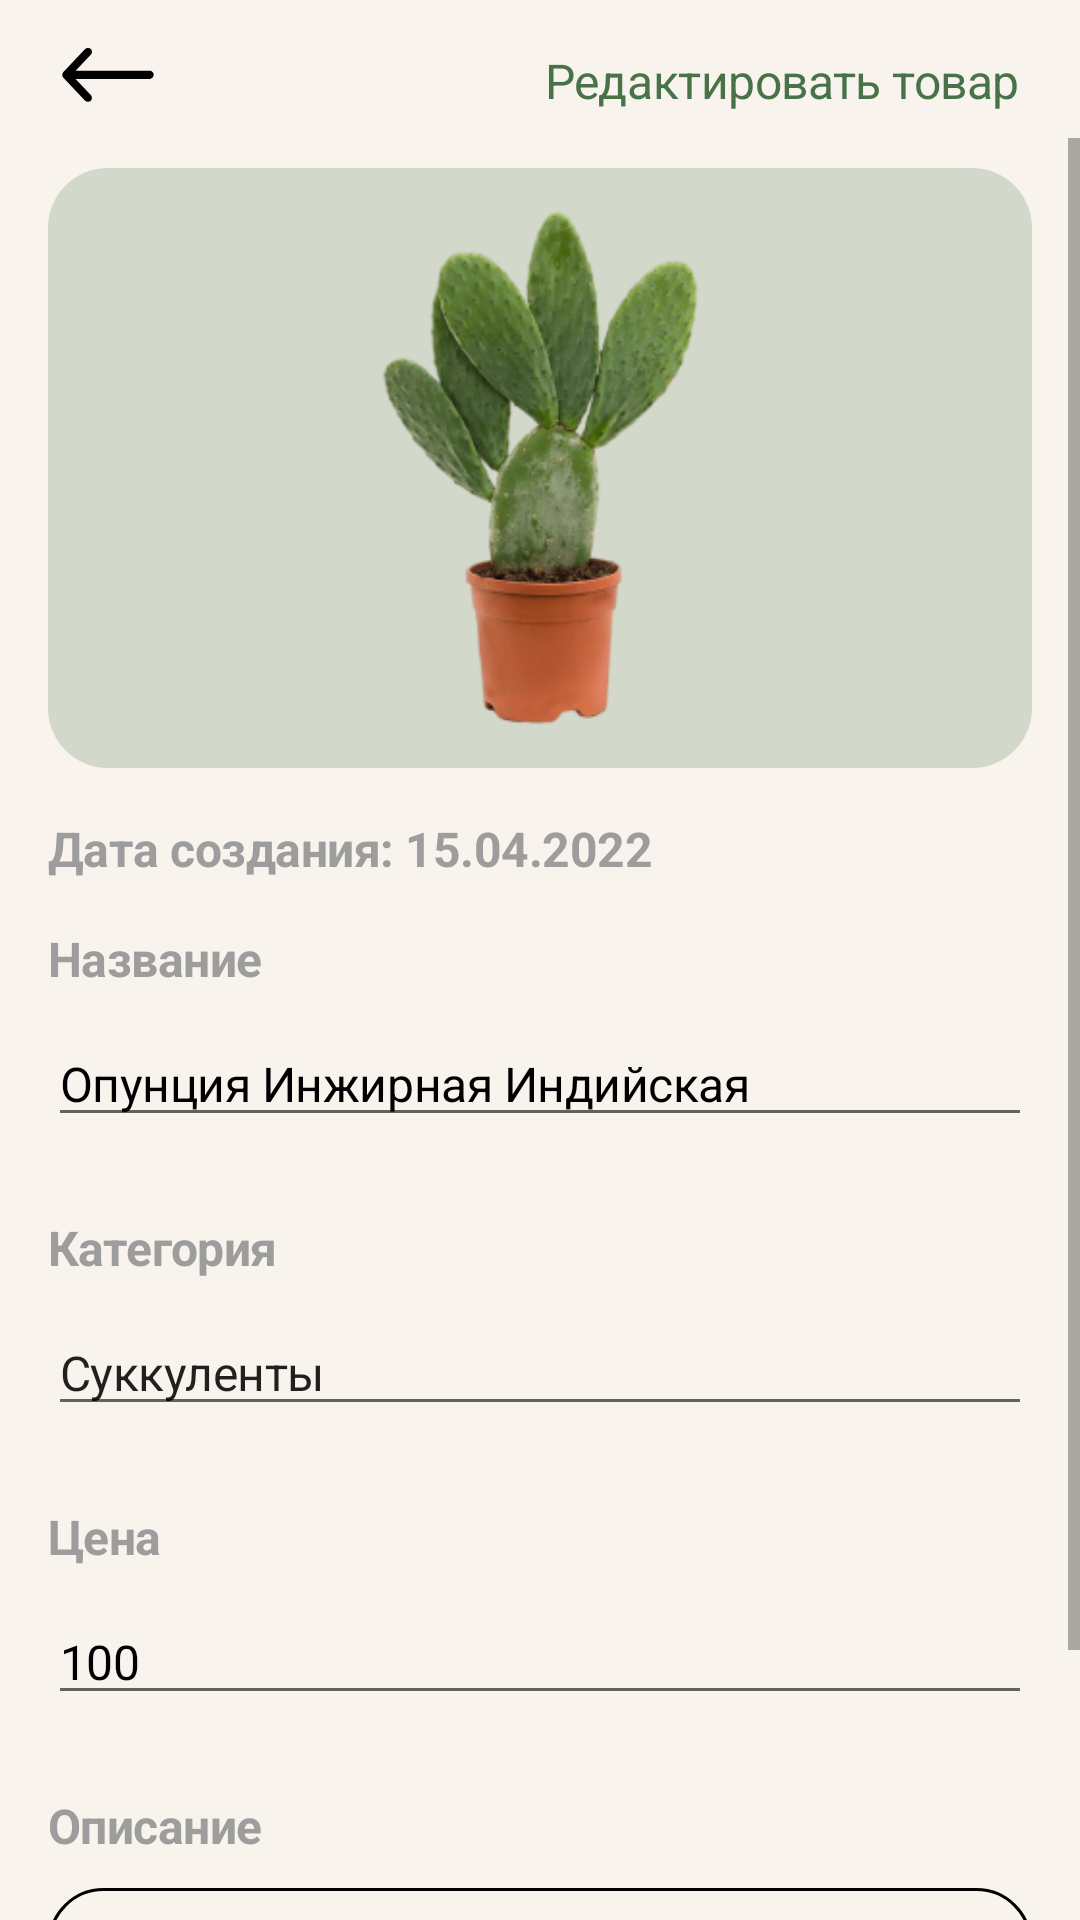

Point at icon controls on the screen. Image size 1080w x 1920h, points as (x=x, y=y).
back: (x=108, y=75)
